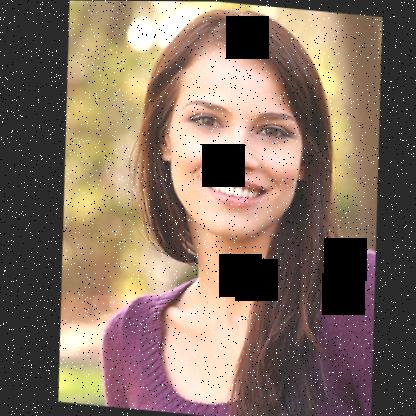Female: (145, 34, 319, 240)
